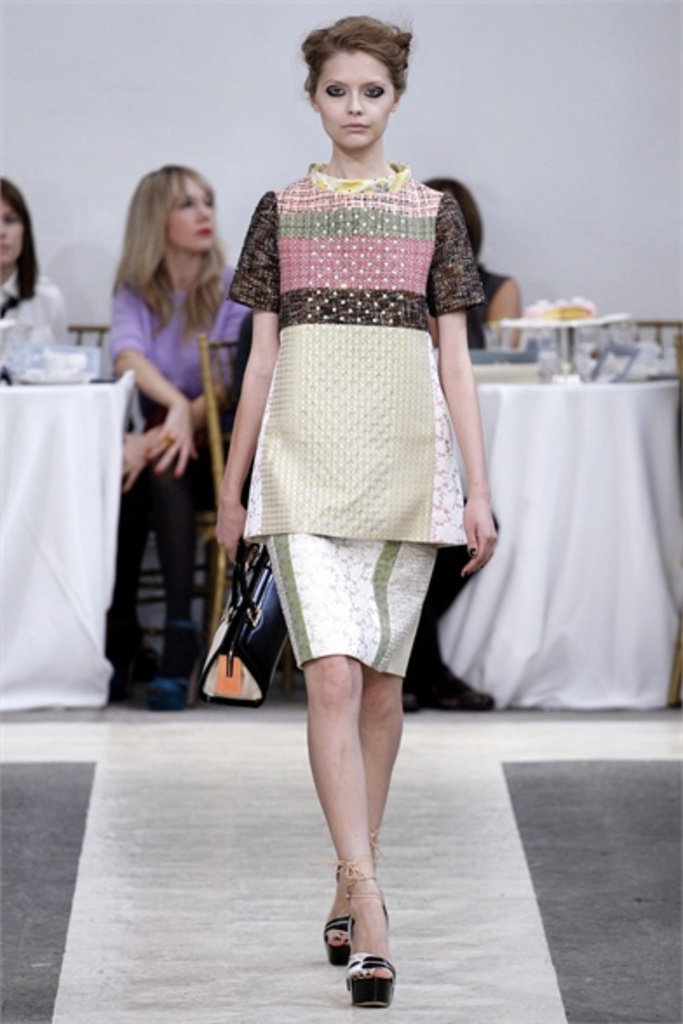Human-face: (314, 38, 392, 150), (167, 176, 218, 256), (0, 199, 24, 270)
